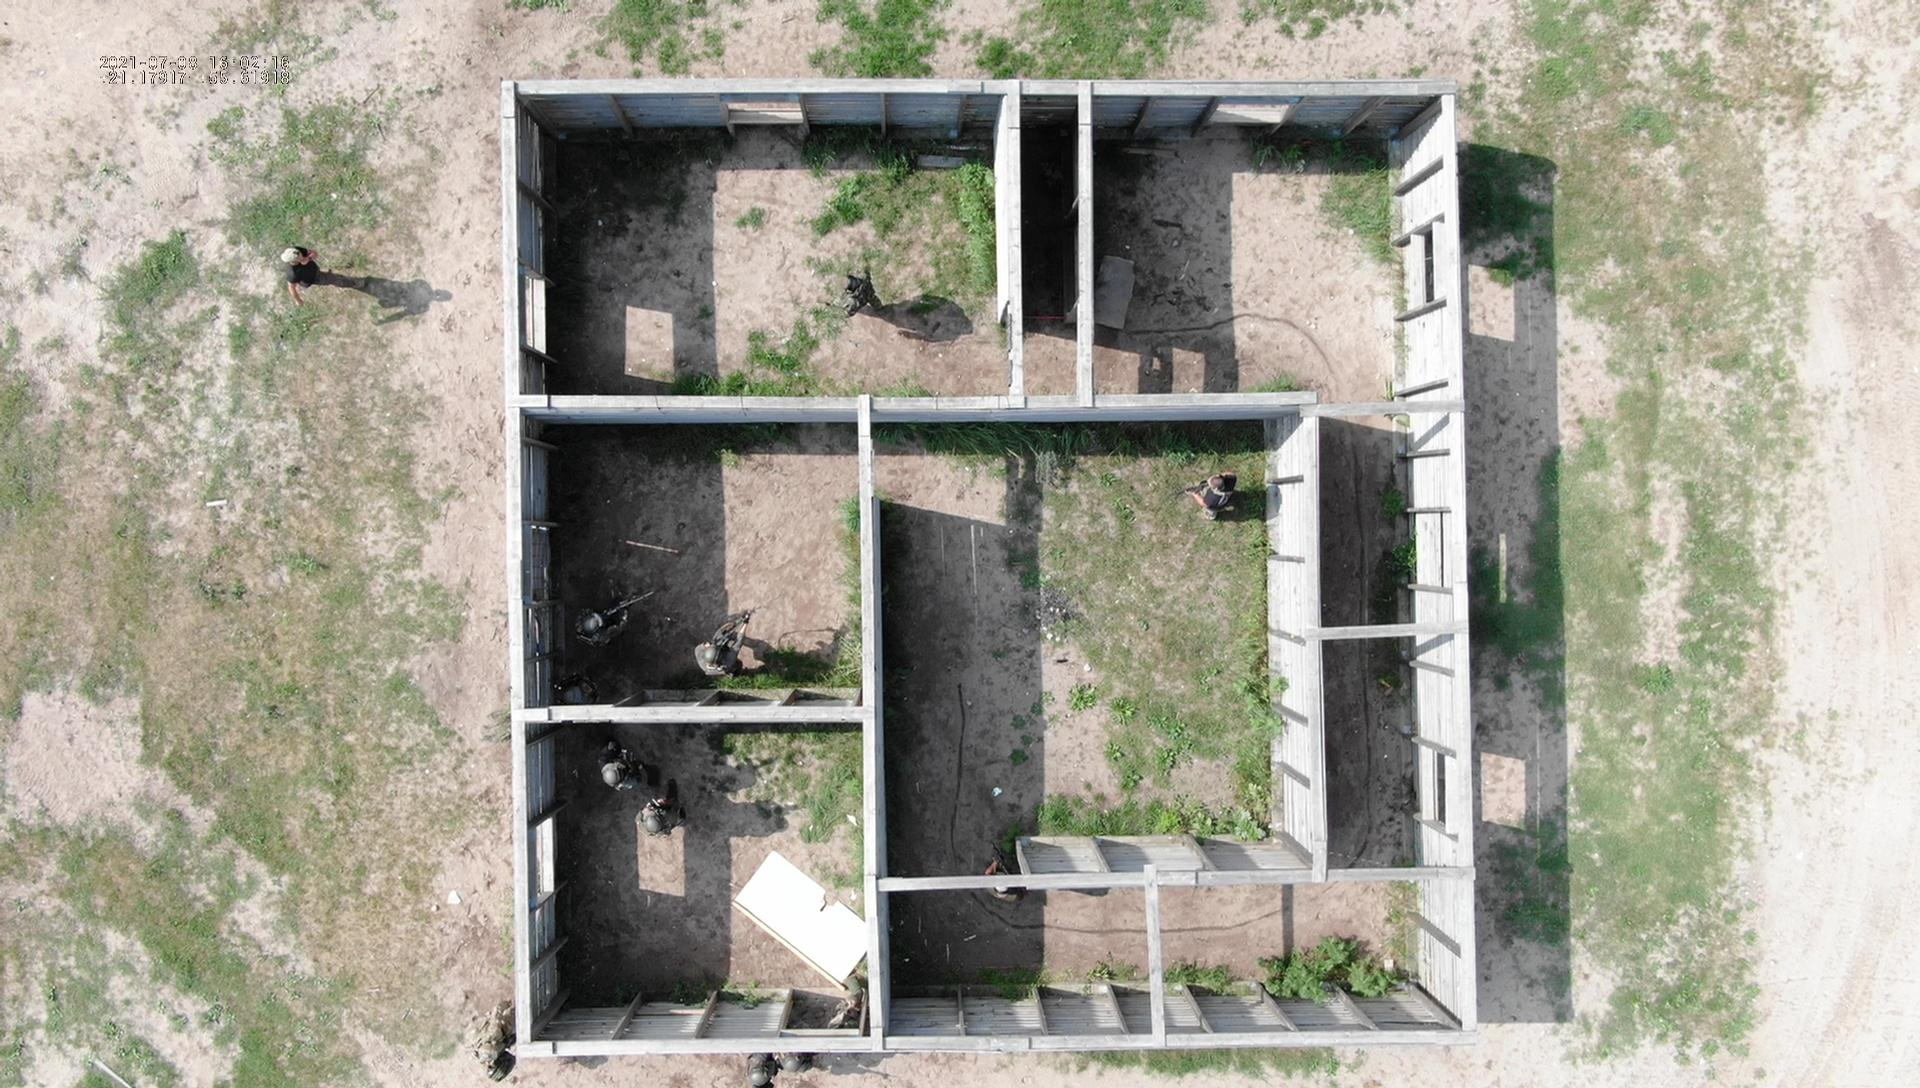Soldier: (463, 996, 549, 1088), (560, 582, 659, 651), (261, 231, 334, 318), (686, 599, 767, 673), (622, 781, 699, 859), (1179, 447, 1241, 541), (822, 256, 894, 327), (592, 742, 662, 801)
